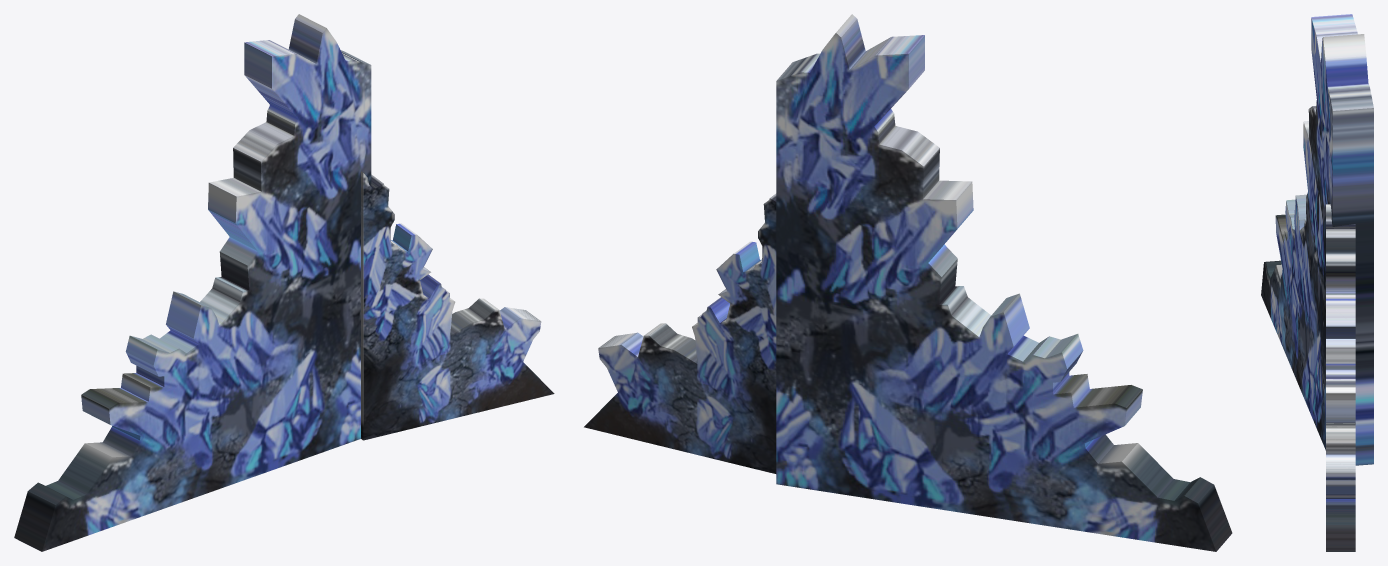
The model's file is SM_LevelCrystal_001.FBX.
3 renders of one model, left to right at view 1: azimuth 30°, elevation 25°; view 2: azimuth 150°, elevation 25°; view 3: azimuth 270°, elevation 25°, orthographic. The views are drawn at different scales.
Parts seen in each view (by area): view 1: SM_LevelCrystal_001; view 2: SM_LevelCrystal_001; view 3: SM_LevelCrystal_001.
Boxes of the visible parts, bbox=[...] form: SM_LevelCrystal_001: bbox=[14, 14, 554, 551]; SM_LevelCrystal_001: bbox=[584, 14, 1232, 551]; SM_LevelCrystal_001: bbox=[1261, 14, 1373, 551].
Bounding box in the file's own units: 3182 × 2325 × 584.
Materials: 1 (1 with a texture image).
